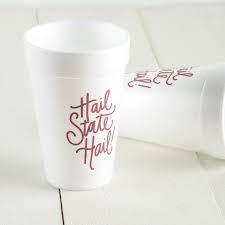Plastic cup: (16, 11, 225, 195)
